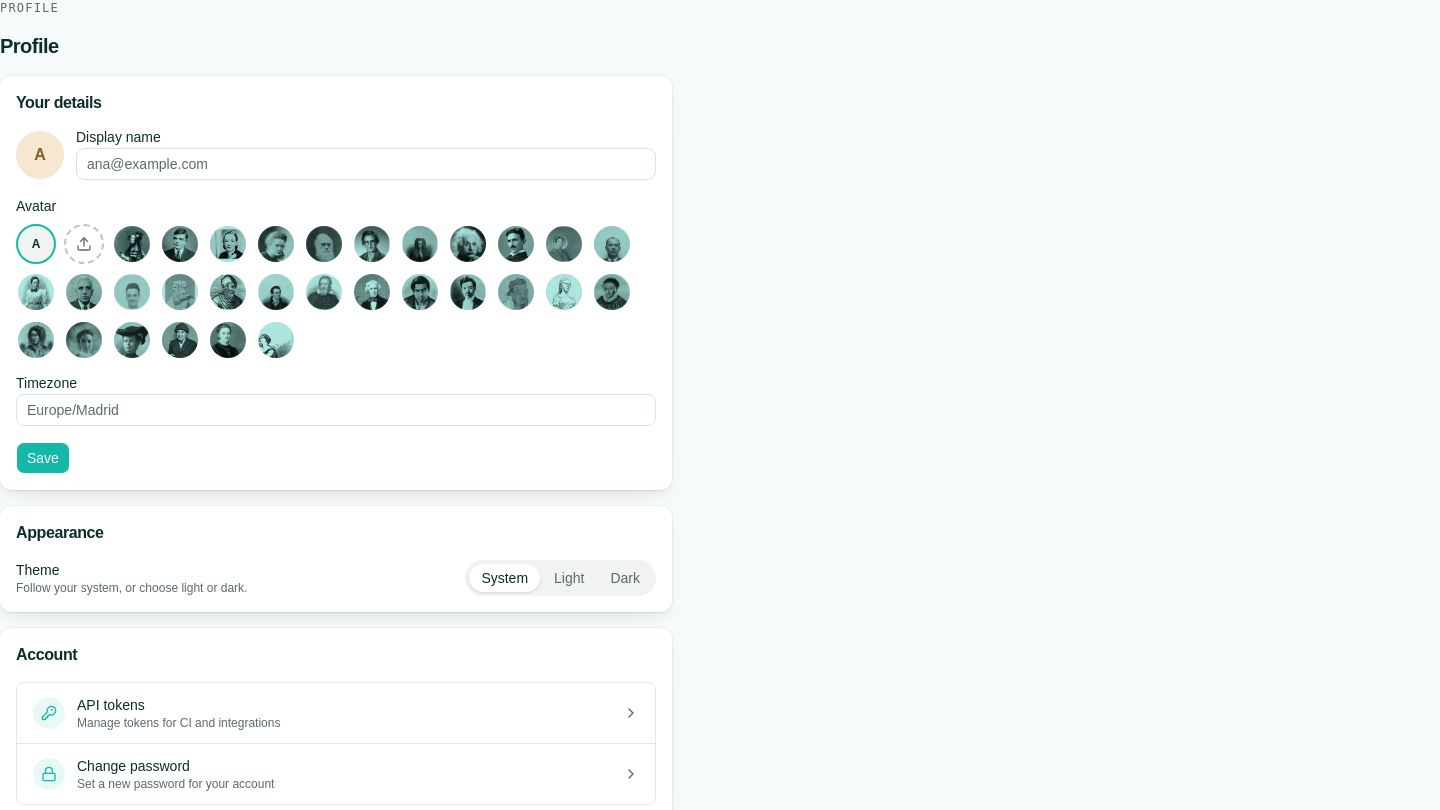
Test: ProfilePage › Change password (add-change-own-password) › shows an inline error on a wrong current password, without navigating away
Click the button "Change password Set a new password for your account" at (49, 774), box 17,744 -> 655,804
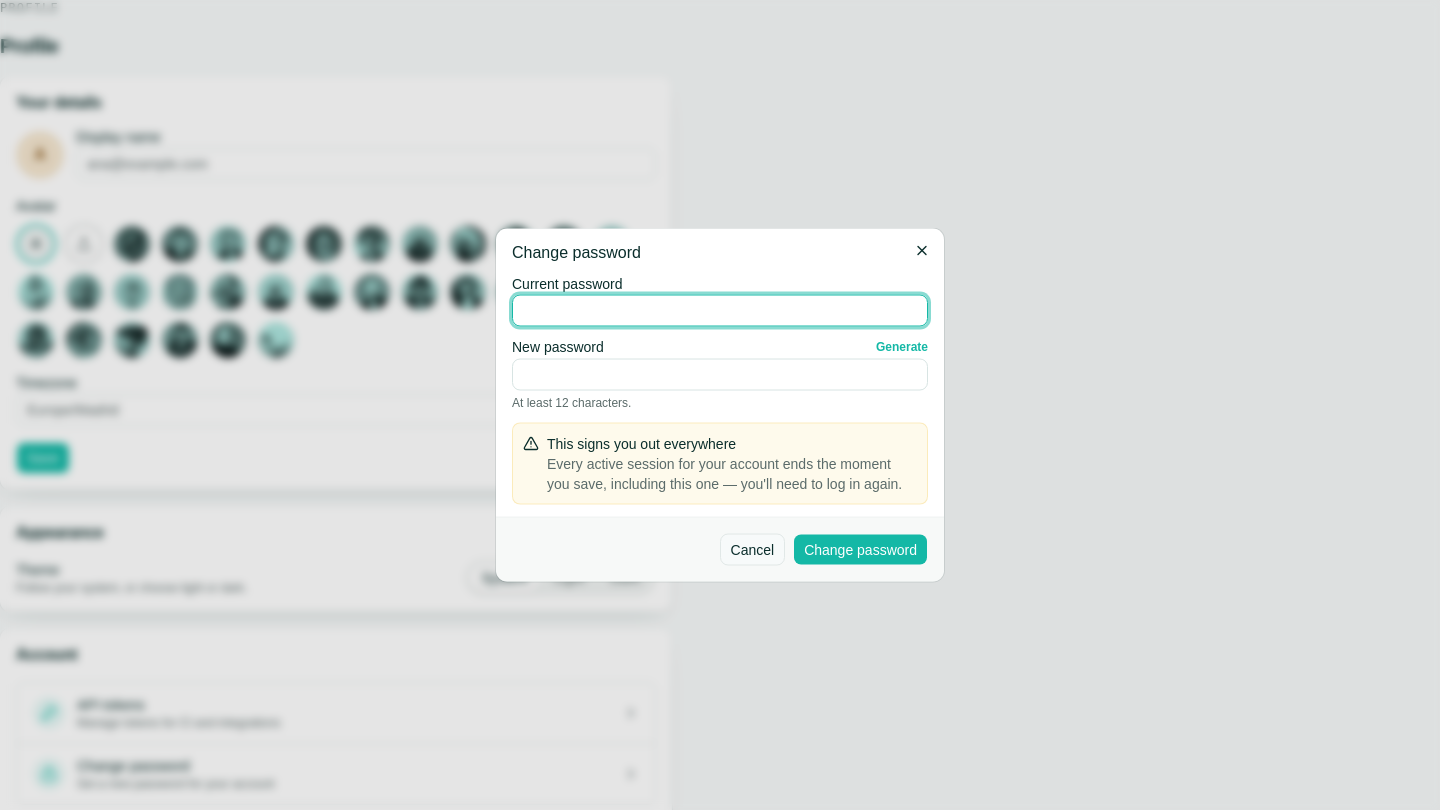
Type "wrong" into the password field labelled "Current password" at (720, 310), box 512,294 -> 928,326
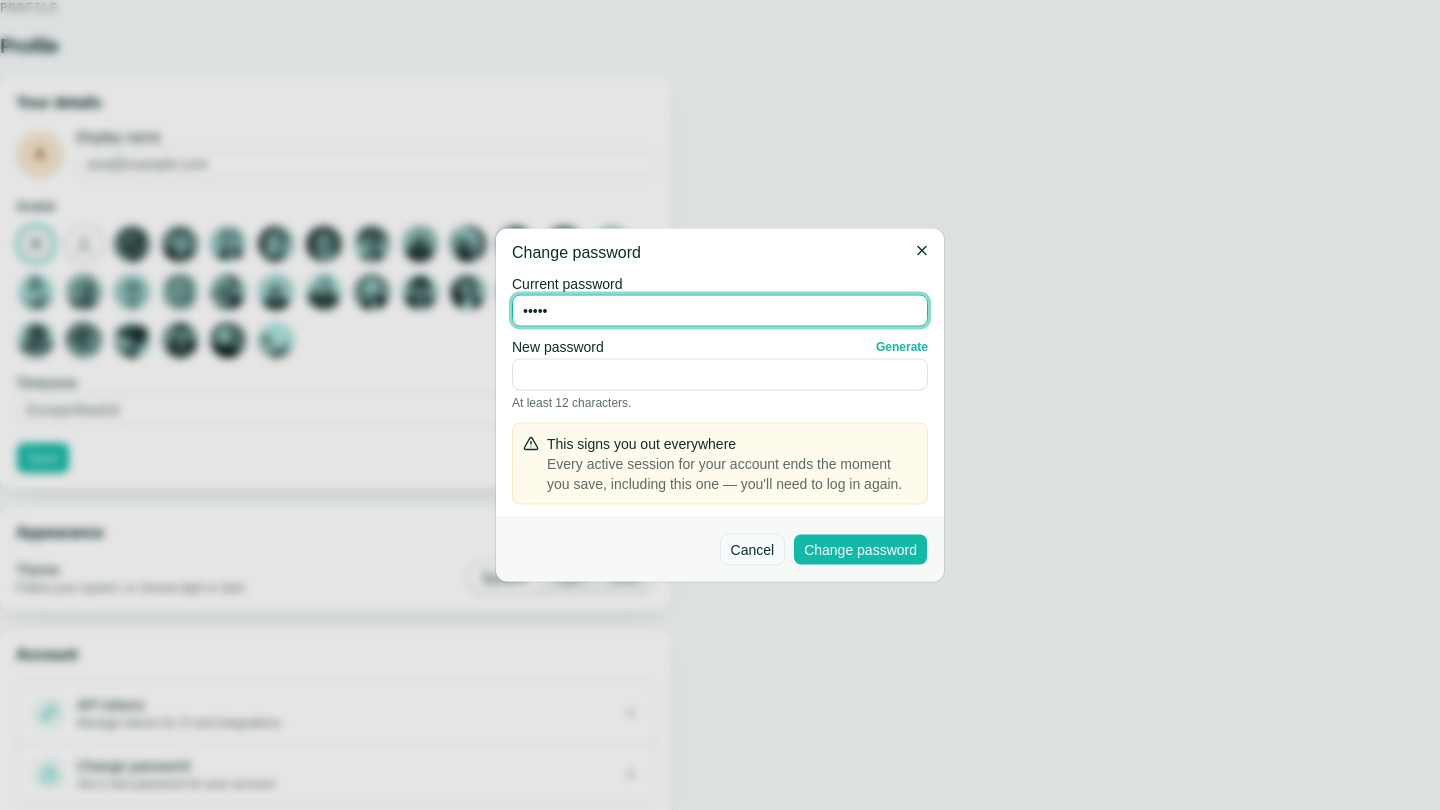
Type "correcthorse-new" into the password field labelled "New password" at (720, 374), box 512,358 -> 928,390
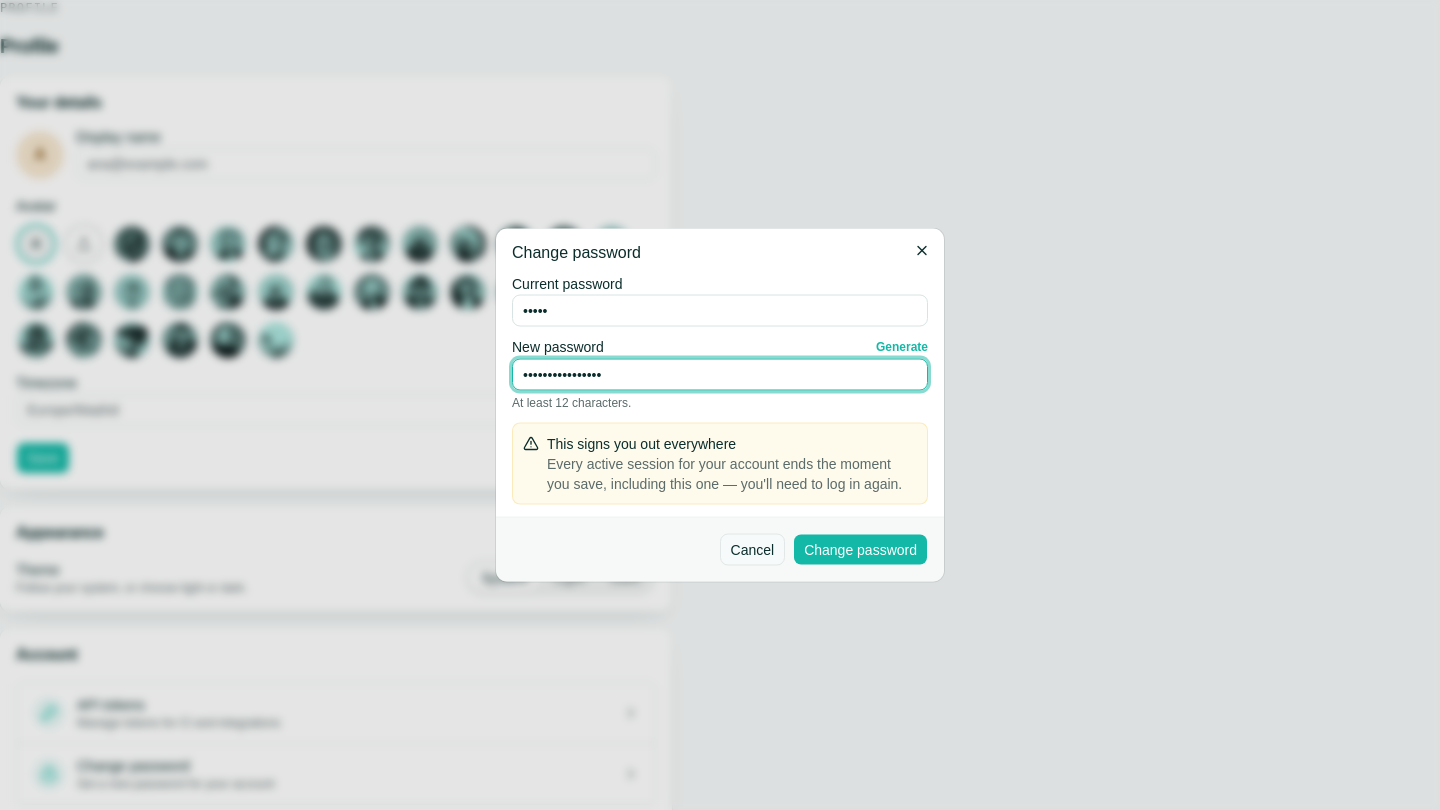
Click the button "Change password" at (861, 550), box 793,534 -> 928,566
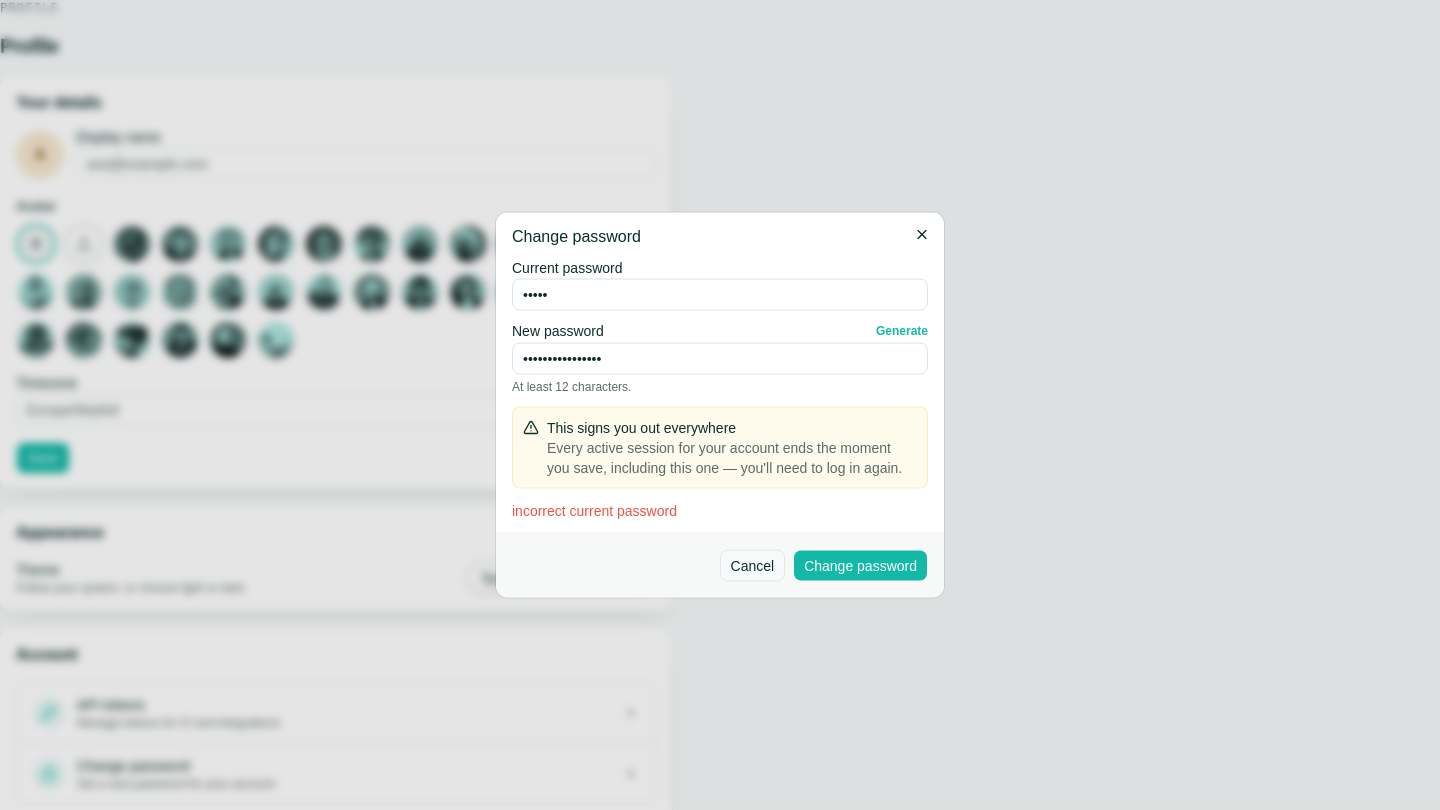
Result: the text "incorrect current password" is shown at 512,502 -> 677,518
